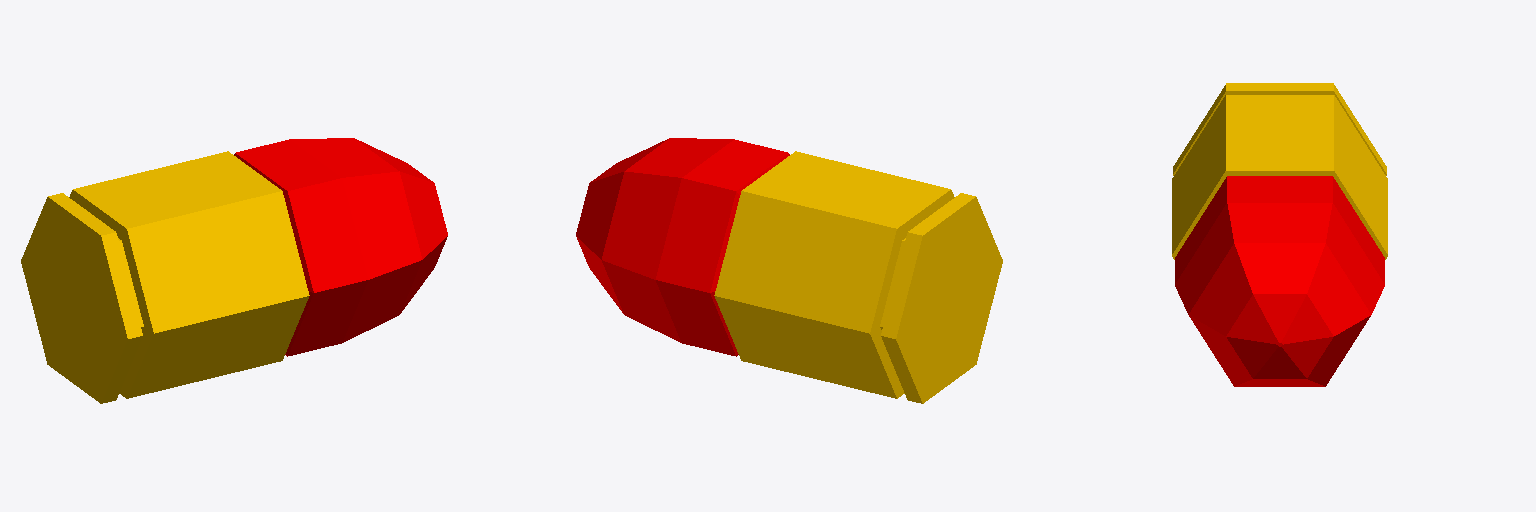
Rendered from low_poly_bullet.obj.
3 renders of one model, left to right at view 1: azimuth 30°, elevation 25°; view 2: azimuth 150°, elevation 25°; view 3: azimuth 270°, elevation 25°, orthographic.
Parts seen in each view (by area): view 1: Object_4, Object_5; view 2: Object_4, Object_5; view 3: Object_5, Object_4.
Part boxes in pixels (left/top/right/bottom): Object_4: left=21, top=151, right=309, bottom=403; Object_5: left=234, top=138, right=447, bottom=356; Object_4: left=714, top=151, right=1002, bottom=403; Object_5: left=576, top=138, right=789, bottom=356; Object_5: left=1175, top=176, right=1384, bottom=386; Object_4: left=1172, top=83, right=1387, bottom=259.
Size of the model in its own units: 0.0351 by 0.0157 by 0.0181.